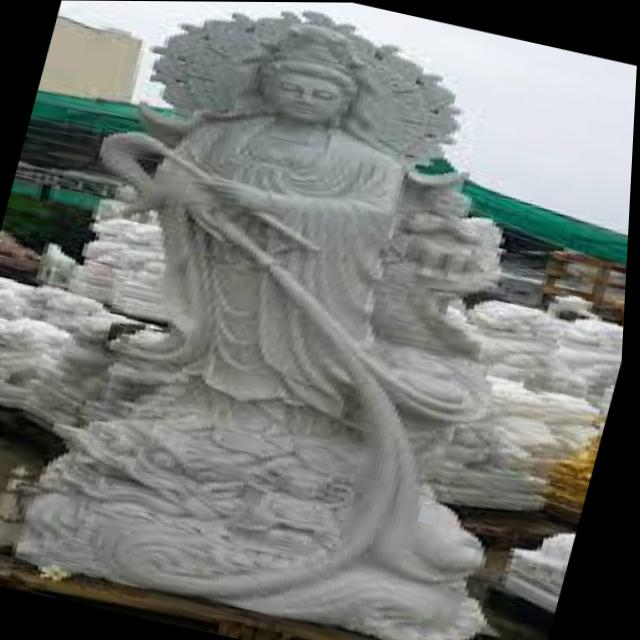Guan Yin: (81, 1, 501, 416)
